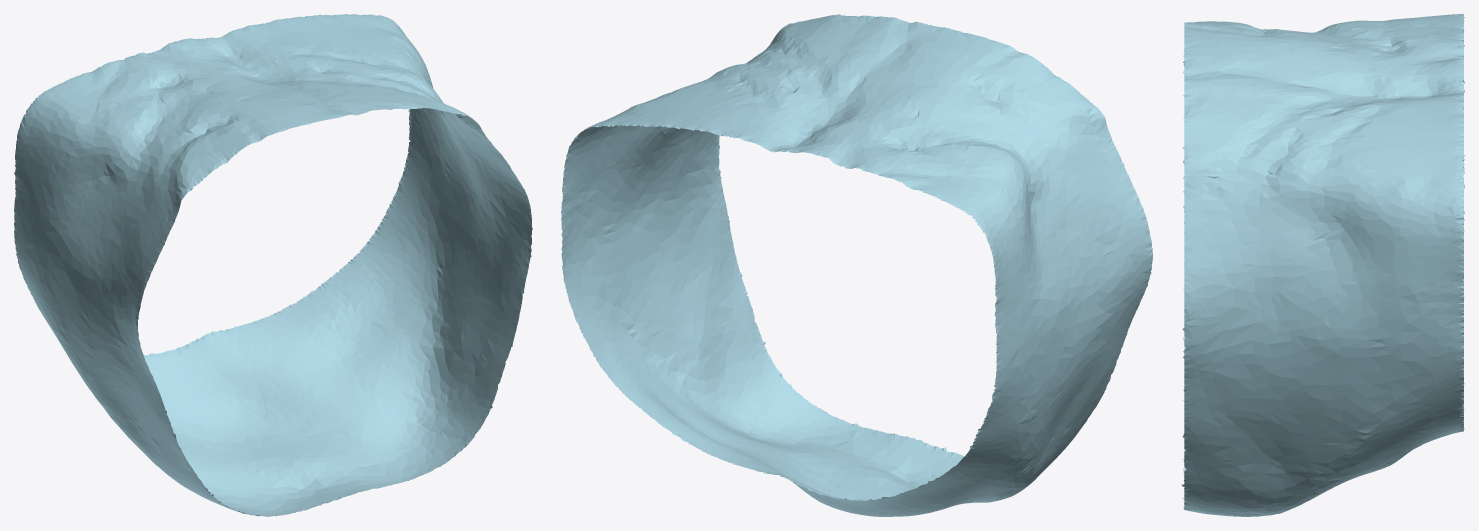
Rendered from skin.obj.
The picture shows the model from 3 angles, left to right: view 1: azimuth 30°, elevation 25°; view 2: azimuth 150°, elevation 25°; view 3: azimuth 270°, elevation 25°; orthographic projection. The views are drawn at different scales.
Visible parts, largest first — view 1: grp1; view 2: grp1; view 3: grp1.
Boxes of the visible parts, <box> form: grp1: <box>14,14,532,516</box>; grp1: <box>561,14,1152,516</box>; grp1: <box>1181,14,1464,516</box>.
Bounding box in the file's own units: 331 × 305 × 190.
